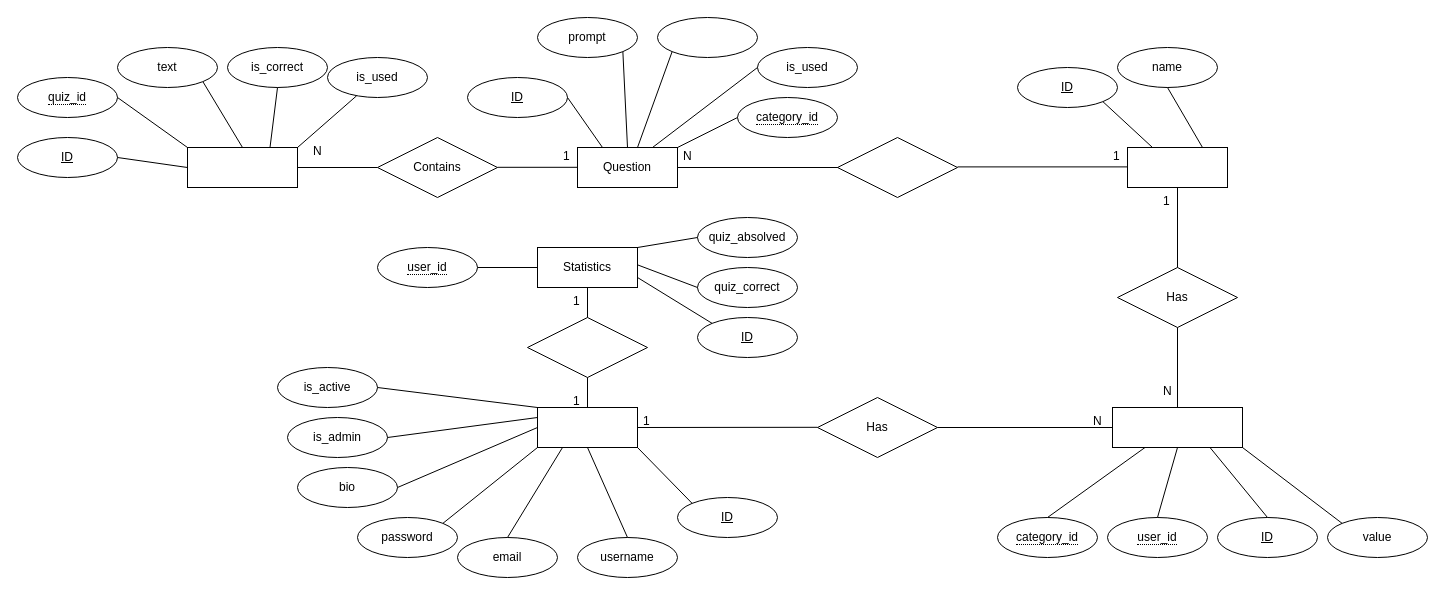
This 1445x595 diagram has some shape labels left out. The shapes that lost their labels are listed below. From the top down, each one's box as (x1, y1, x2, y2) in pixels, then its label:
(656, 16, 758, 58): image_url
(186, 146, 298, 188): Answer
(836, 136, 958, 198): Belongs to
(1126, 146, 1228, 188): Category
(526, 316, 648, 378): Achieves
(536, 406, 638, 448): User
(1112, 406, 1242, 448): Language_popularity
